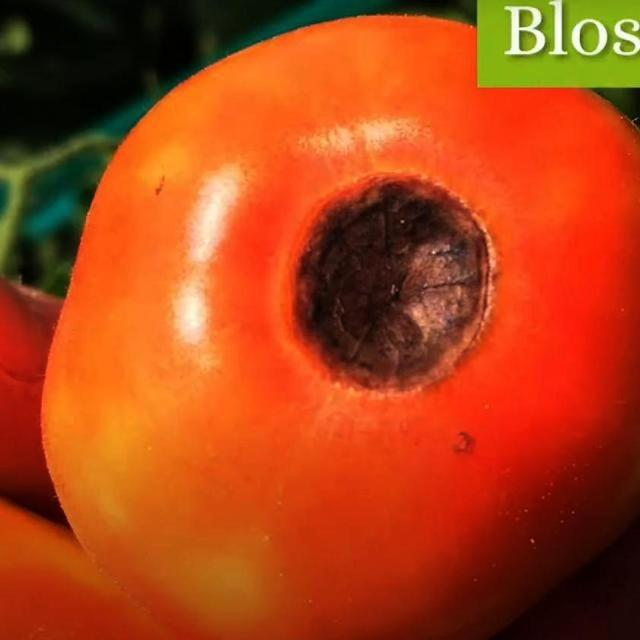Blossom End Rot Fruit: (185, 111, 333, 271)
